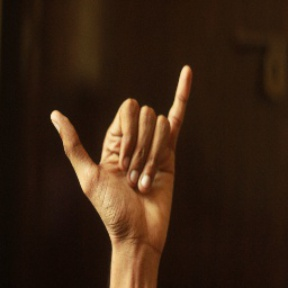J: (44, 60, 201, 237)
